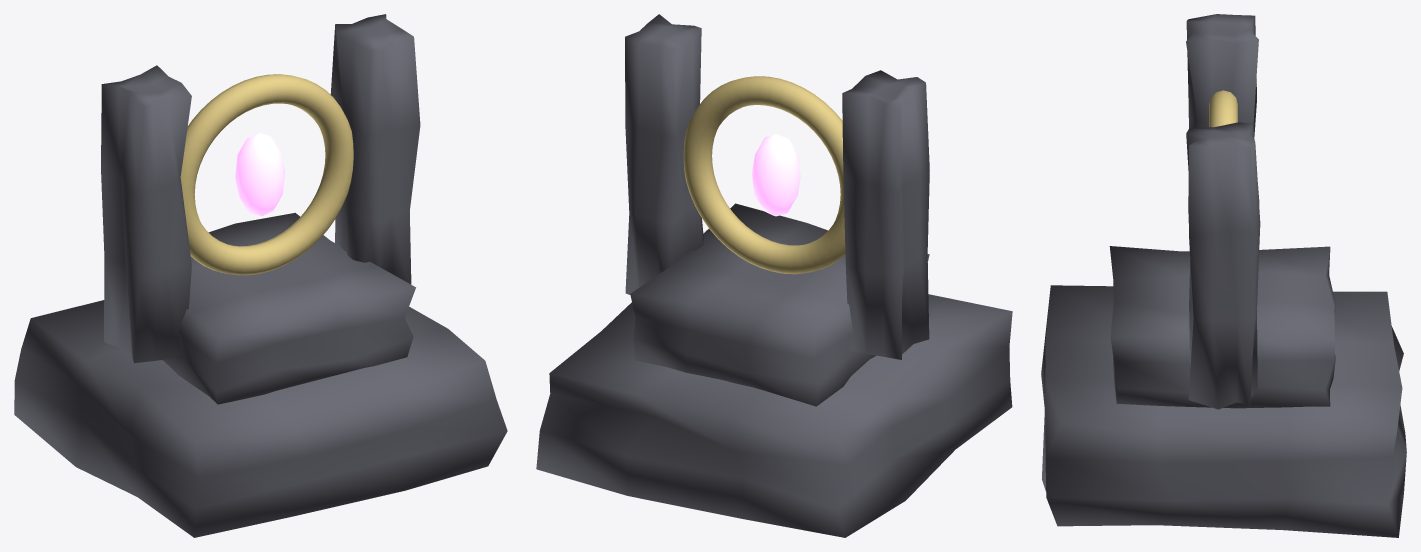
Rendered from aura_shrine.glb.
The picture shows the model from 3 angles, left to right: view 1: azimuth 30°, elevation 25°; view 2: azimuth 150°, elevation 25°; view 3: azimuth 270°, elevation 25°; orthographic projection.
Visible parts, largest first — view 1: Shrine_Plinth, Shrine_Altar, Shrine_PillarL, Shrine_PillarR, Shrine_Ring, ShrineCrystal; view 2: Shrine_Plinth, Shrine_Altar, Shrine_PillarL, Shrine_PillarR, Shrine_Ring, ShrineCrystal; view 3: Shrine_Plinth, Shrine_Altar, Shrine_PillarR, Shrine_PillarL, Shrine_Ring.
Boxes of the visible parts, box(x1,y1,x2,y2) form: Shrine_Plinth: box(14, 300, 507, 537); Shrine_Altar: box(162, 212, 415, 404); Shrine_PillarL: box(101, 65, 191, 363); Shrine_PillarR: box(330, 14, 420, 284); Shrine_Ring: box(180, 74, 353, 275); ShrineCrystal: box(235, 133, 284, 216); Shrine_Plinth: box(536, 294, 1012, 537); Shrine_Altar: box(630, 203, 929, 406); Shrine_PillarL: box(842, 70, 929, 359); Shrine_PillarR: box(625, 14, 703, 294); Shrine_Ring: box(683, 76, 845, 274); ShrineCrystal: box(751, 134, 800, 216); Shrine_Plinth: box(1041, 285, 1406, 537); Shrine_Altar: box(1109, 246, 1335, 408); Shrine_PillarR: box(1186, 122, 1260, 409); Shrine_PillarL: box(1186, 14, 1259, 251); Shrine_Ring: box(1209, 90, 1237, 127).
Bounding box in the file's own units: 2.29 × 2.72 × 2.33.
